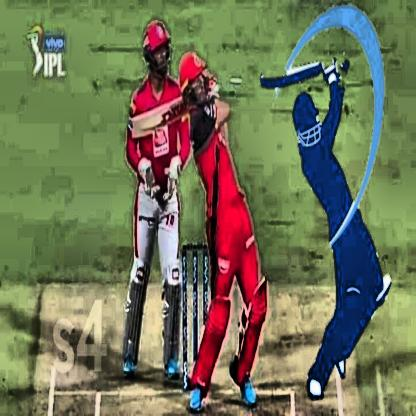IPL: (260, 3, 396, 402), (27, 19, 44, 79), (43, 54, 65, 80)
